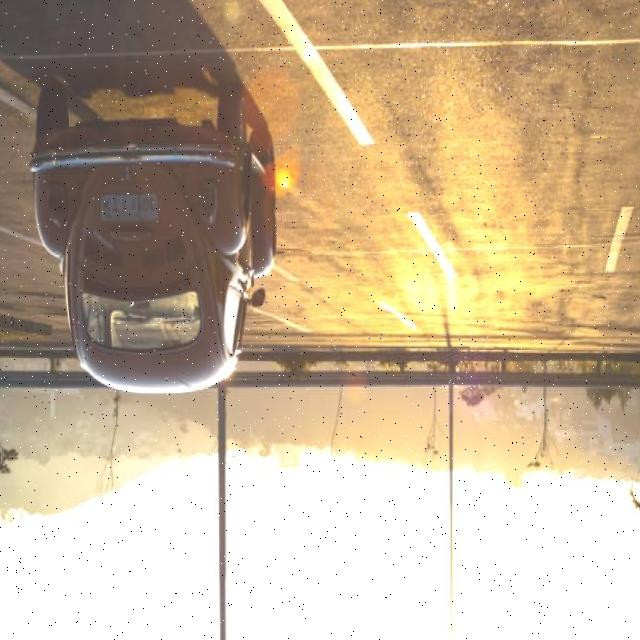car: (21, 89, 279, 396)
